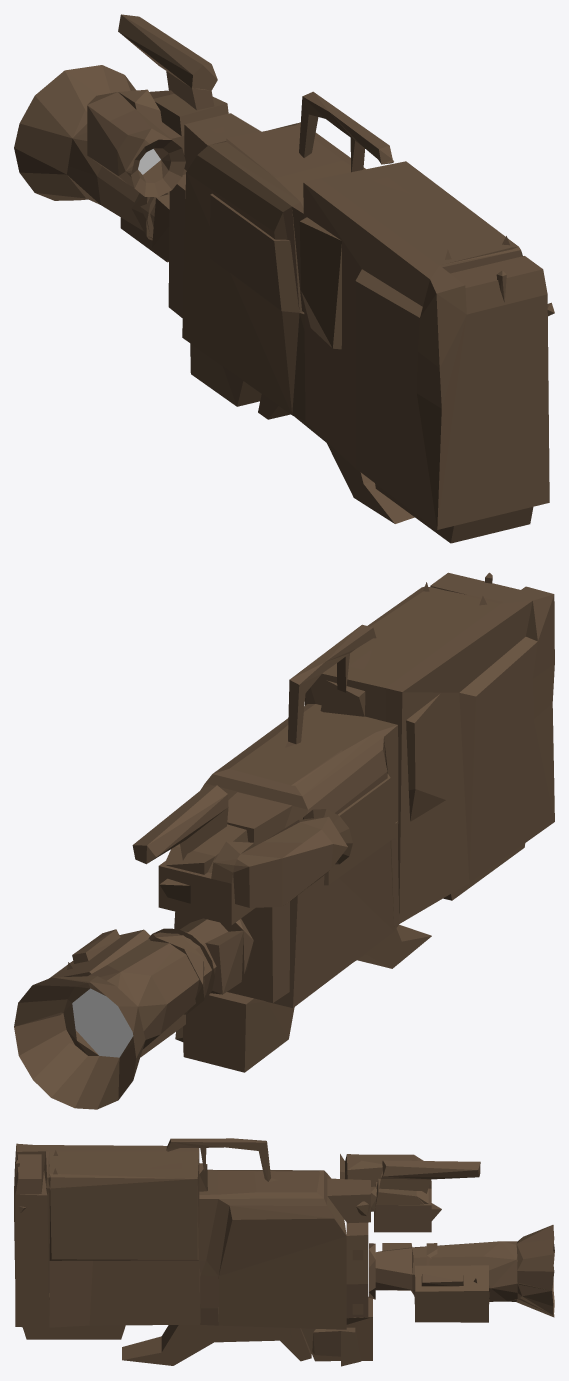
The model's file is camcorder.fbx.
3 renders of one model, top to bottom at view 1: azimuth 30°, elevation 25°; view 2: azimuth 150°, elevation 25°; view 3: azimuth 270°, elevation 25°, orthographic. The views are drawn at different scales.
Visible parts, largest first — view 1: camcorder; view 2: camcorder; view 3: camcorder.
Boxes of the visible parts, x1,y1,x2,y2 form: camcorder: [14, 14, 554, 543]; camcorder: [14, 572, 554, 1109]; camcorder: [14, 1138, 554, 1366].
Size of the model in its own units: 994 by 1648 by 3703.
